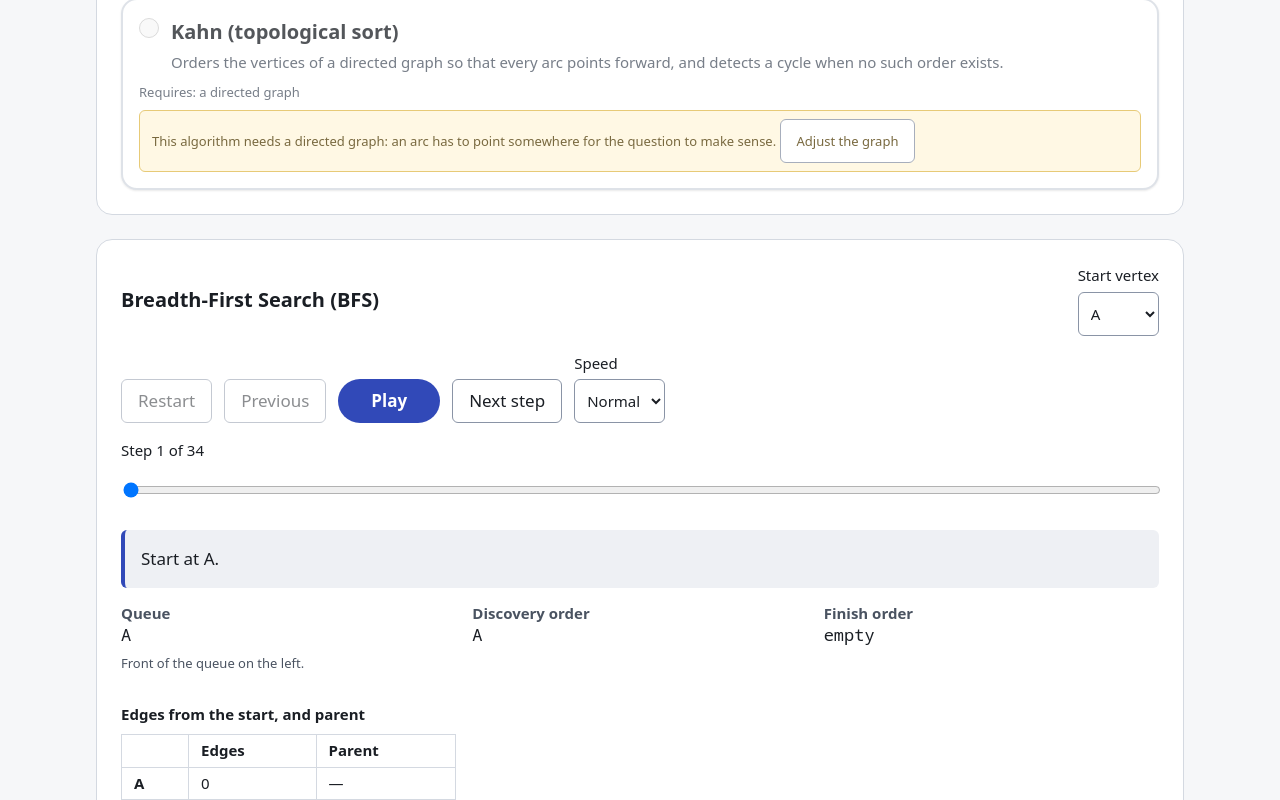
Test: running an algorithm › keeps playing until the end, then stops on its own
(page scrolled)
Click the button "Play" at point(389, 401), box [338, 379, 440, 423]
Wait 95000 ms
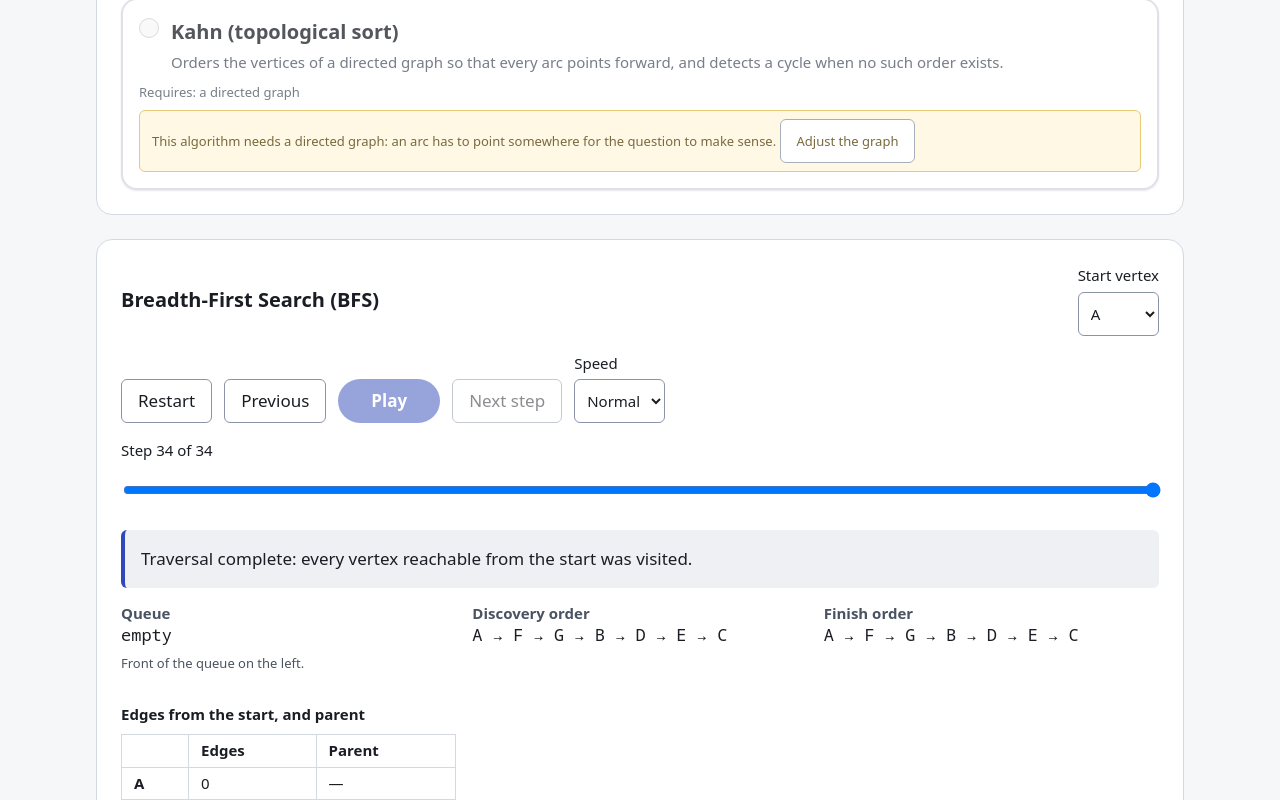
Expected: the text "Step 34 of 34" is shown, [121, 440, 213, 460]
Now the button "Play" is disabled, box [338, 379, 440, 423]
